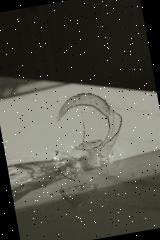glass: (42, 84, 138, 211)
